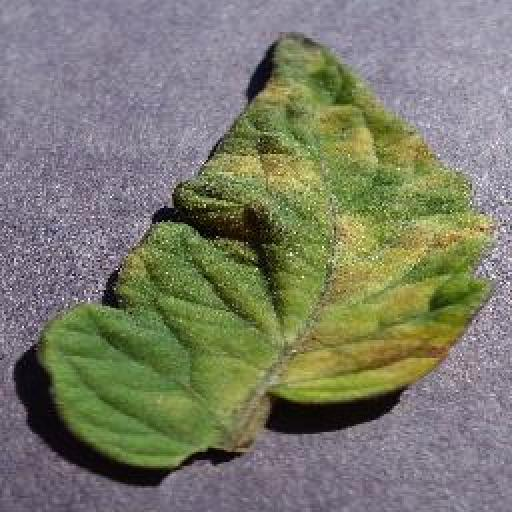disease_tomato: (44, 30, 498, 470)
